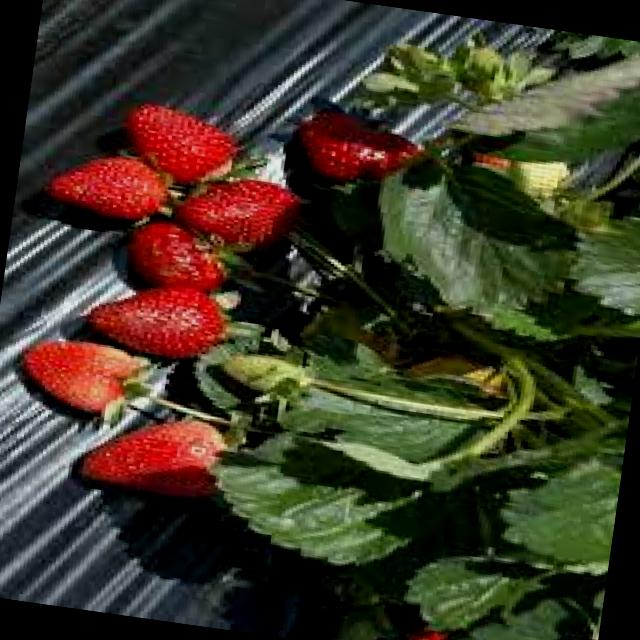strawberry: (68, 408, 236, 516), (86, 266, 230, 367), (7, 333, 156, 422), (130, 96, 262, 190), (44, 145, 186, 229), (187, 161, 294, 249), (116, 215, 218, 292)
